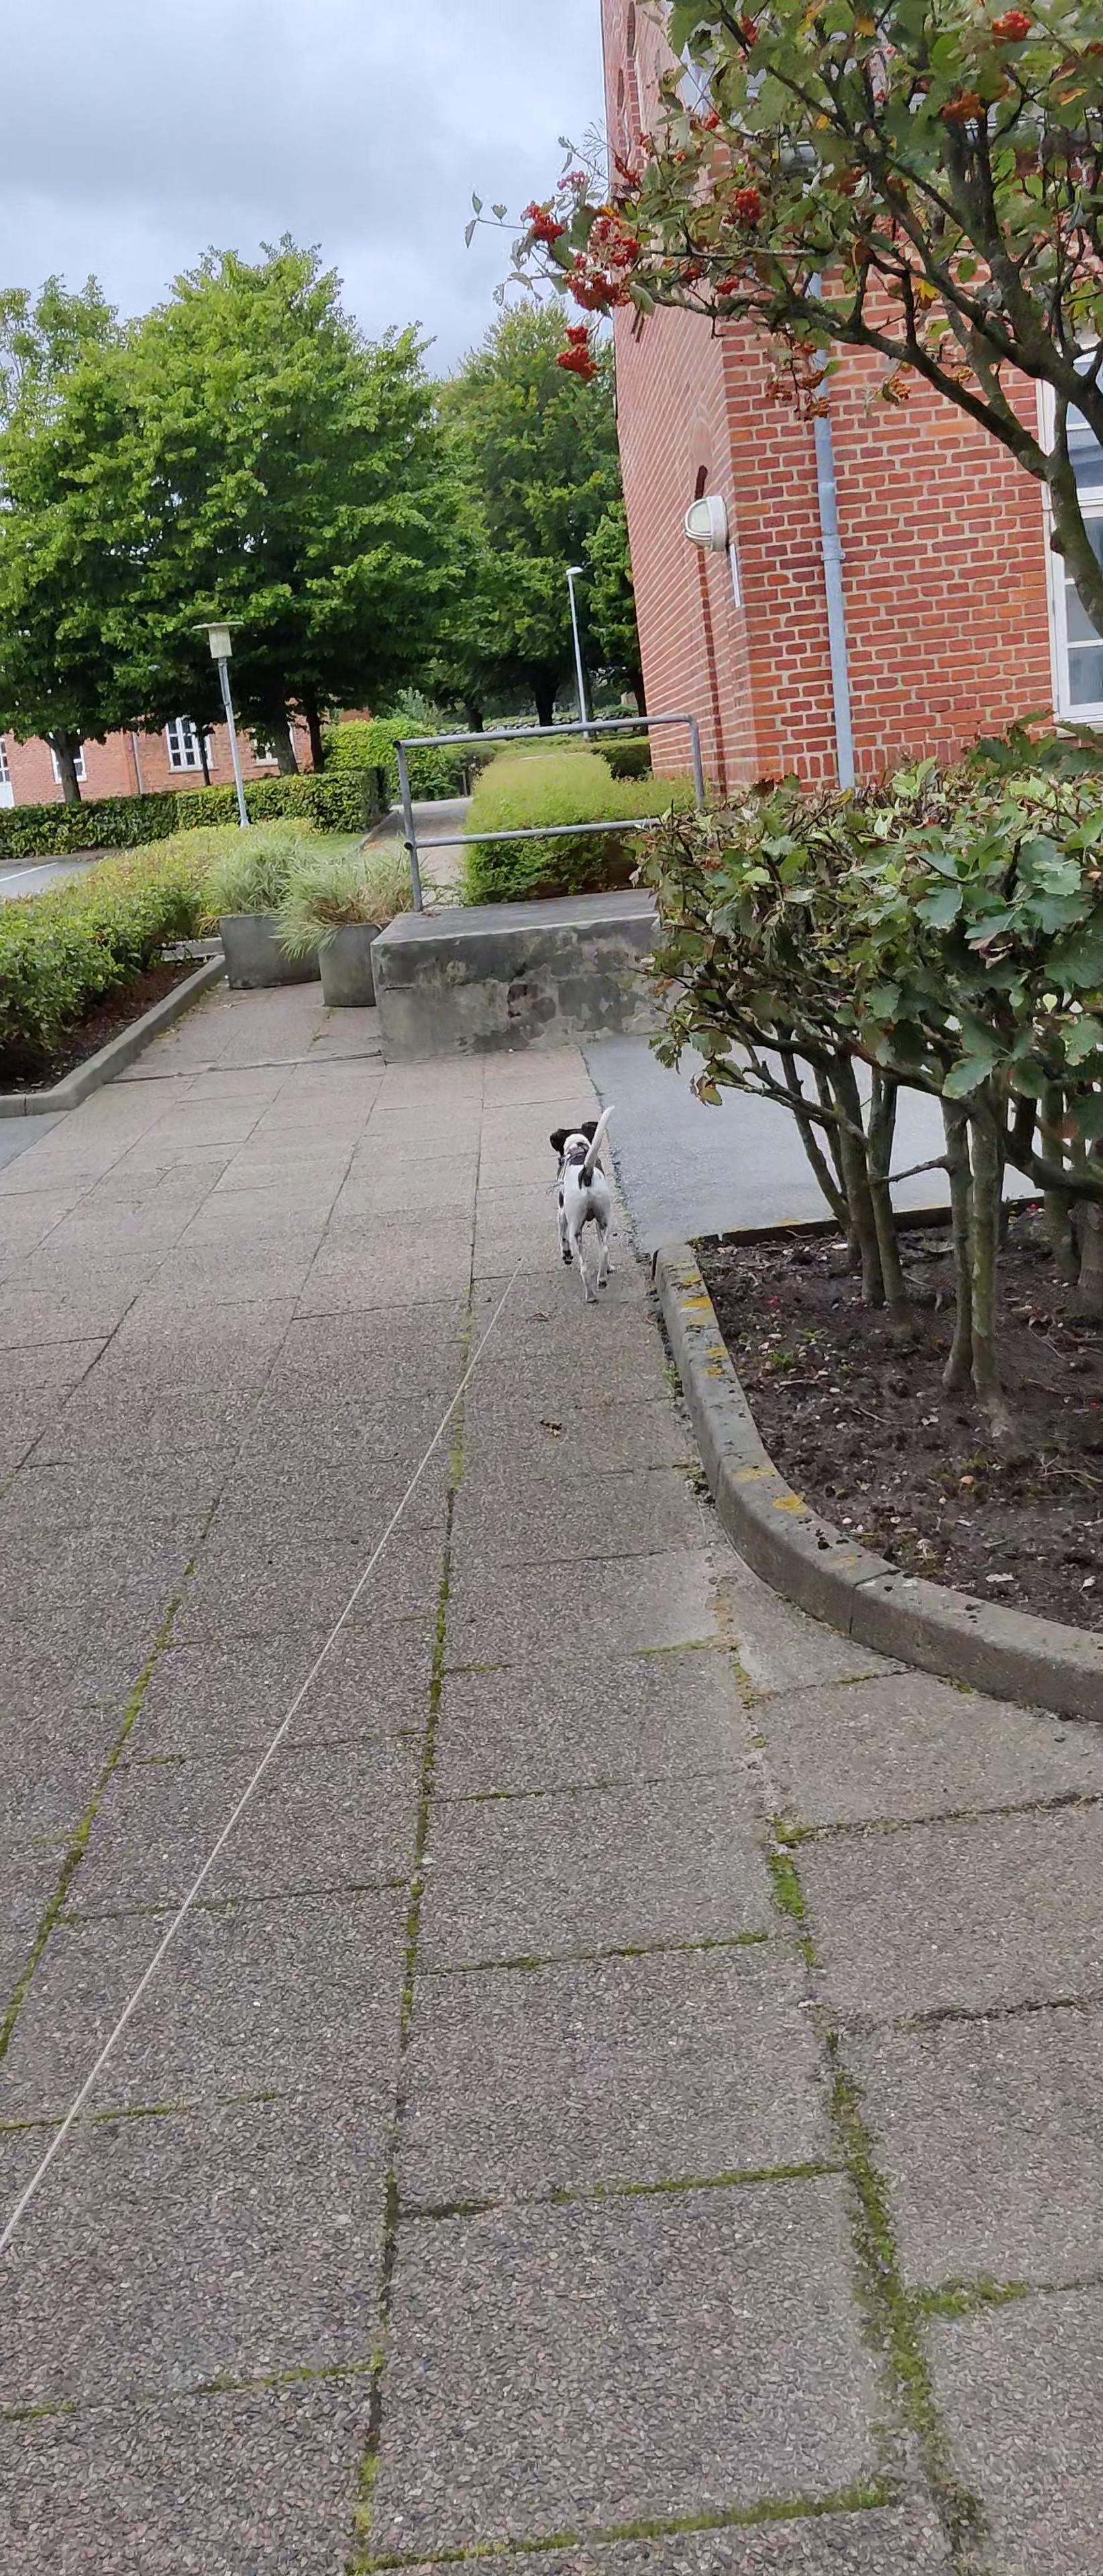Dog: (546, 1102, 621, 1306)
